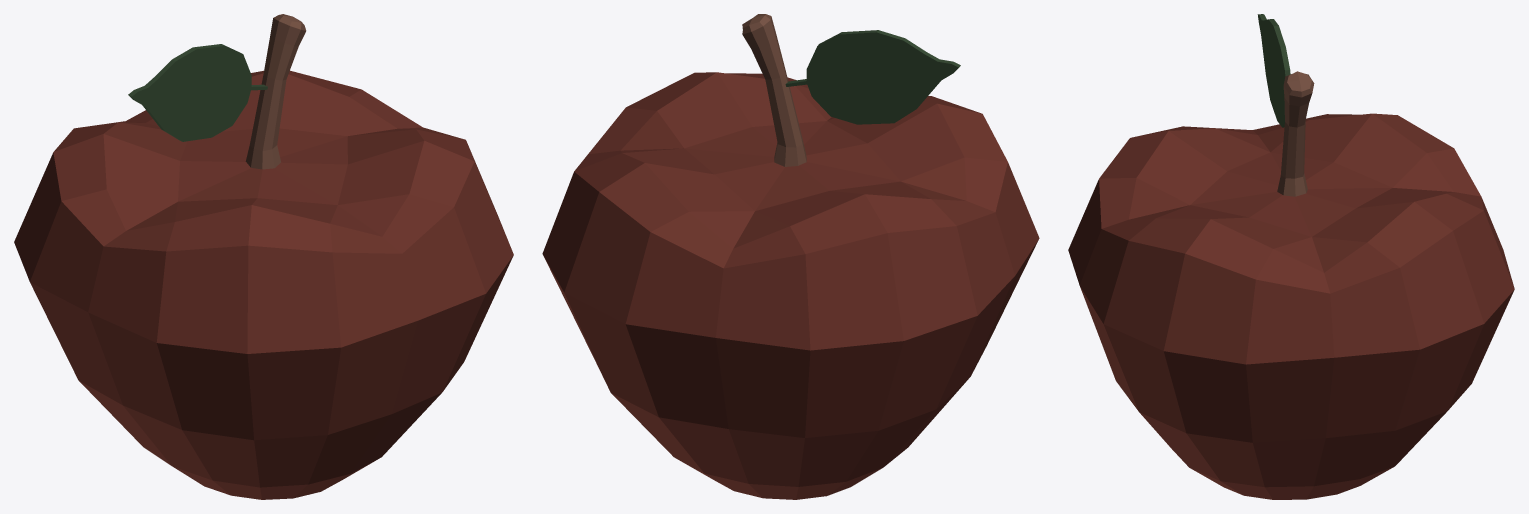
File: finalAnim.glb
3 views of the same model, side by side, from view 1: azimuth 30°, elevation 25°; view 2: azimuth 150°, elevation 25°; view 3: azimuth 270°, elevation 25° (orthographic). The views are drawn at different scales.
Parts seen in each view (by area): view 1: Apple; view 2: Apple; view 3: Apple.
Boxes of the visible parts, bbox=[...] form: Apple: bbox=[14, 14, 513, 499]; Apple: bbox=[542, 14, 1039, 499]; Apple: bbox=[1068, 14, 1514, 499].
Size of what is drawn, in the model's own units: 0.8284 by 0.8517 by 0.8253.
